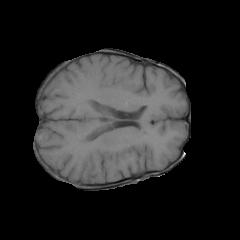glioma: (68, 127, 97, 156)
